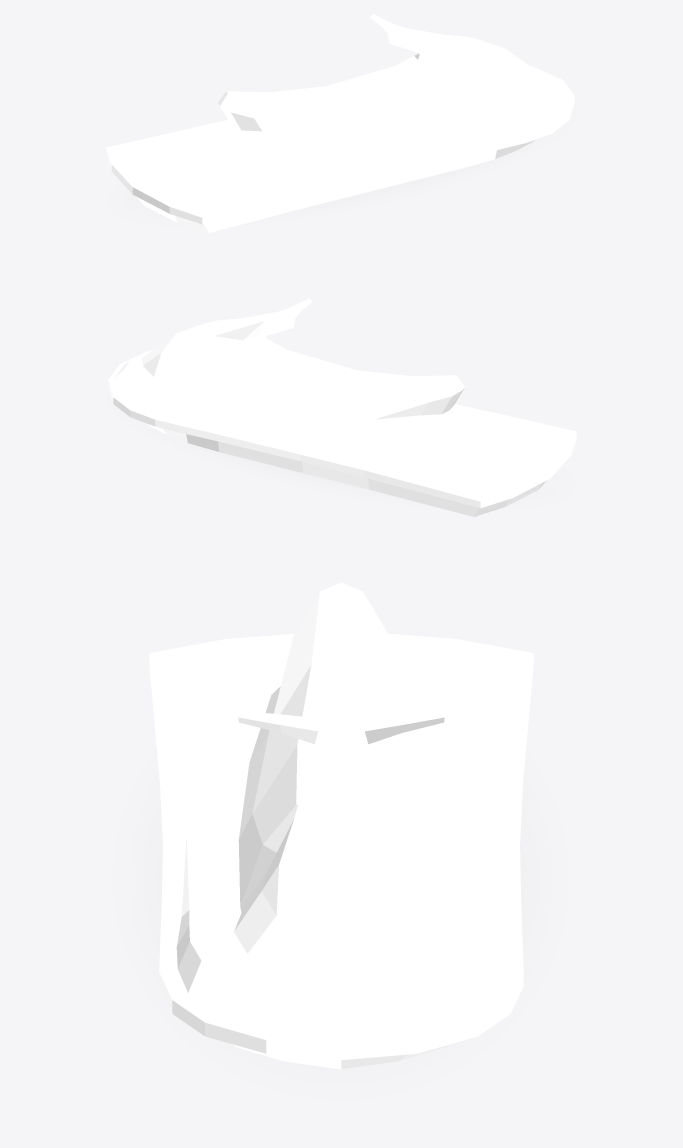
Rendered from AIS_JetSkis-A_001.glb.
The picture shows the model from 3 angles, top to bottom: view 1: azimuth 30°, elevation 25°; view 2: azimuth 150°, elevation 25°; view 3: azimuth 270°, elevation 25°; orthographic projection. The views are drawn at different scales.
Visible parts, largest first — view 1: AIS_JetSki-A.001, SurfaceGraphic_whiteGlow.012; view 2: AIS_JetSki-A.001, SurfaceGraphic_whiteGlow.012; view 3: AIS_JetSki-A.001, SurfaceGraphic_whiteGlow.012.
Part boxes in pixels (bbox=[...]): AIS_JetSki-A.001: bbox=[106, 14, 574, 232]; SurfaceGraphic_whiteGlow.012: bbox=[301, 163, 482, 209]; AIS_JetSki-A.001: bbox=[108, 298, 576, 516]; SurfaceGraphic_whiteGlow.012: bbox=[201, 447, 381, 493]; AIS_JetSki-A.001: bbox=[149, 582, 533, 1069]; SurfaceGraphic_whiteGlow.012: bbox=[150, 816, 531, 937].
Bounding box in the file's own units: 3.12 × 0.6478 × 1.35.
2 materials, 1 textured.
